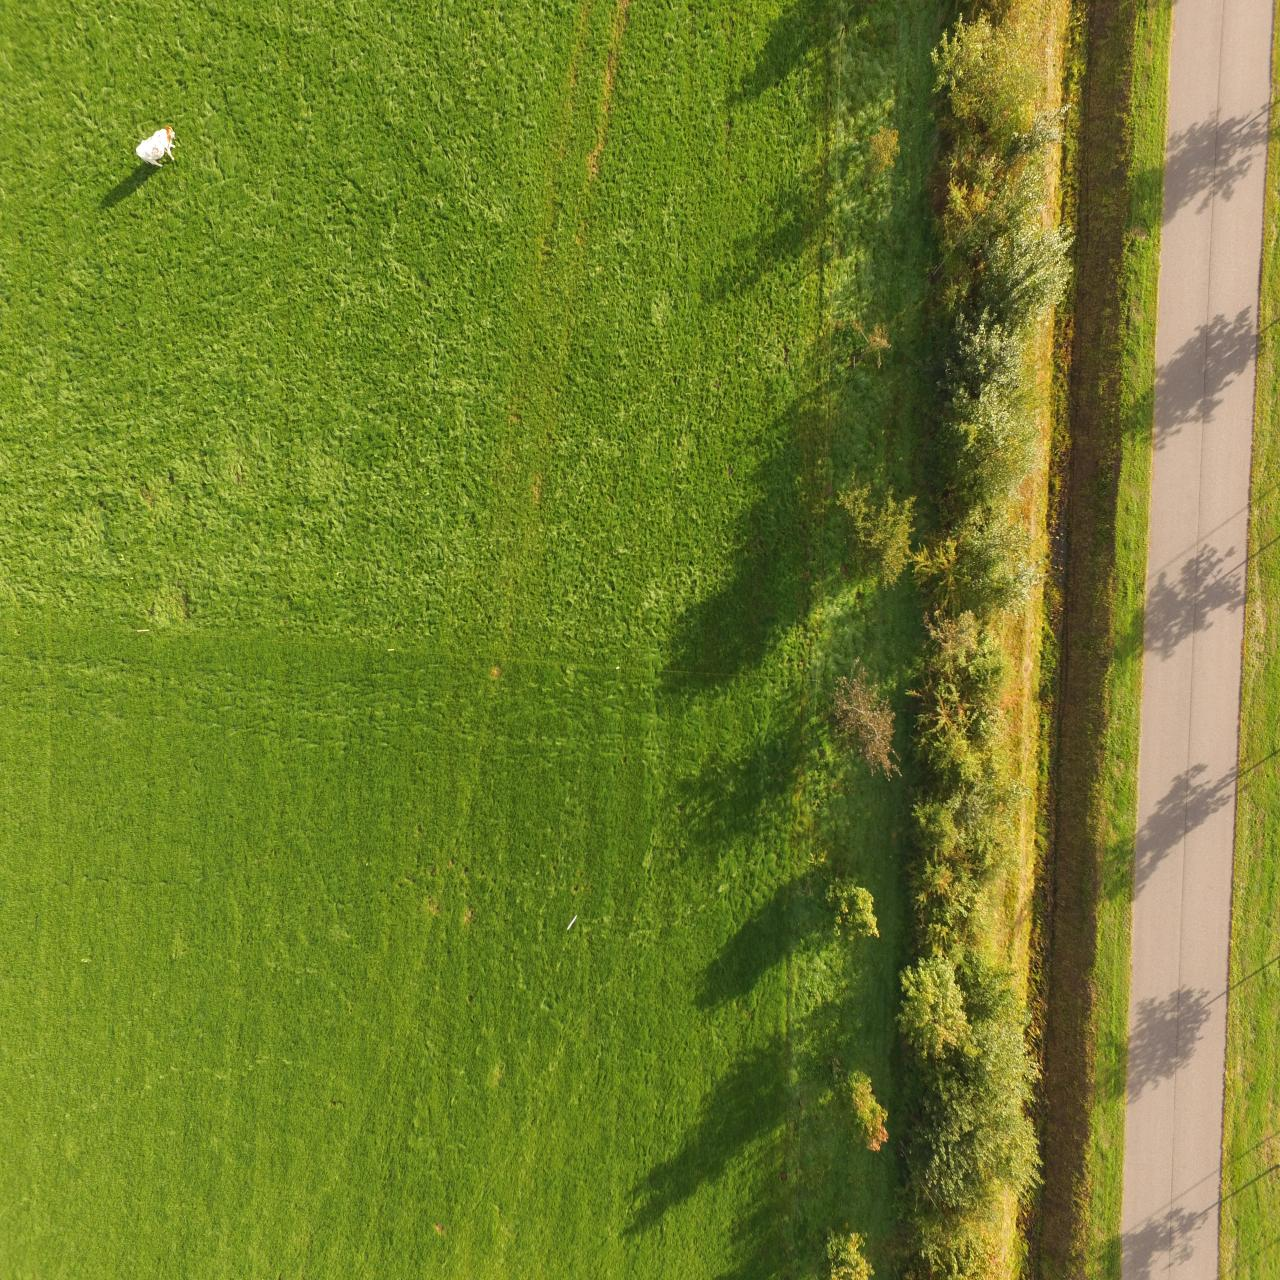cow: (134, 123, 178, 171)
